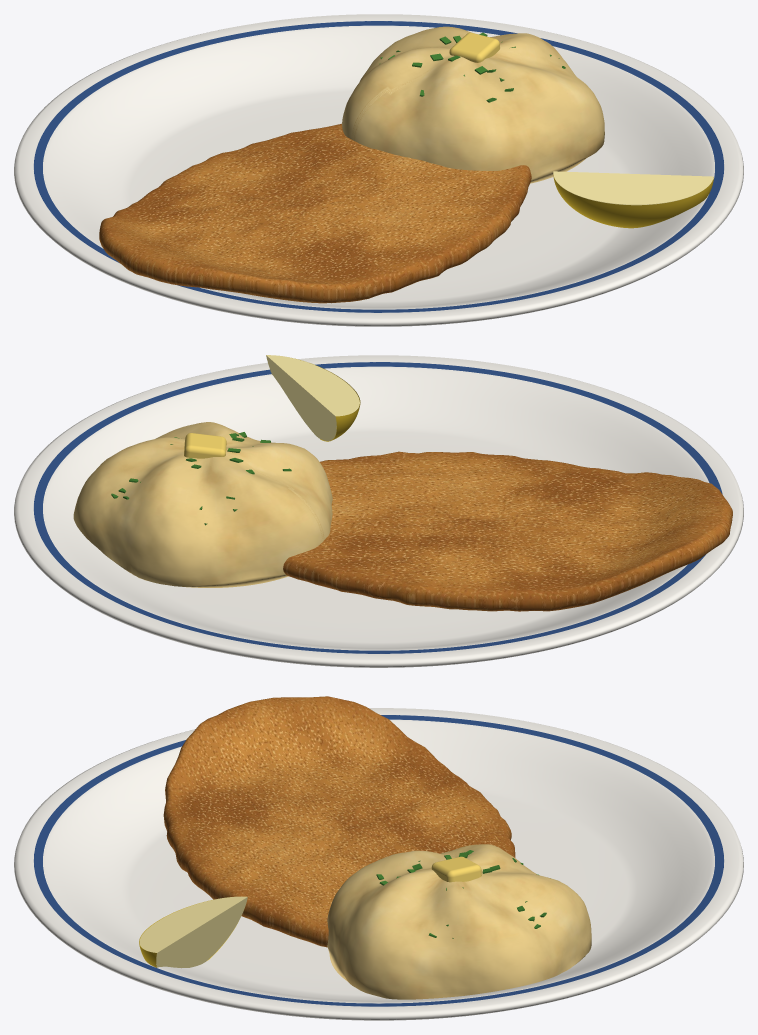
Rendered from d-sin-relieve.glb.
3 views of the same model, one above another, from view 1: azimuth 30°, elevation 25°; view 2: azimuth 150°, elevation 25°; view 3: azimuth 270°, elevation 25° (orthographic).
Visible parts, largest first — view 1: Plato, Milanesa, Pure, Pulpa de limon, Cascara de limon, Mantequilla, Perejil; view 2: Plato, Milanesa, Pure, Pulpa de limon, Mantequilla, Perejil; view 3: Plato, Milanesa, Pure, Pulpa de limon, Mantequilla, Perejil.
Part boxes in pixels (x1,y1,x2,y2): Plato: (14, 14, 743, 326); Milanesa: (99, 123, 531, 303); Pure: (342, 26, 604, 183); Pulpa de limon: (553, 171, 713, 205); Cascara de limon: (553, 175, 713, 228); Mantequilla: (449, 32, 499, 62); Perejil: (379, 32, 565, 102); Plato: (14, 355, 743, 667); Milanesa: (283, 451, 732, 611); Pure: (73, 422, 332, 587); Pulpa de limon: (266, 355, 359, 440); Mantequilla: (184, 433, 226, 458); Perejil: (111, 432, 291, 525); Plato: (14, 708, 743, 1020); Milanesa: (163, 696, 515, 947); Pure: (327, 844, 591, 999); Pulpa de limon: (139, 896, 247, 968); Mantequilla: (431, 856, 481, 882); Perejil: (376, 850, 546, 938).
Bounding box in the file's own units: 0.2812 × 0.0489 × 0.2812.
7 materials, 3 textured.
